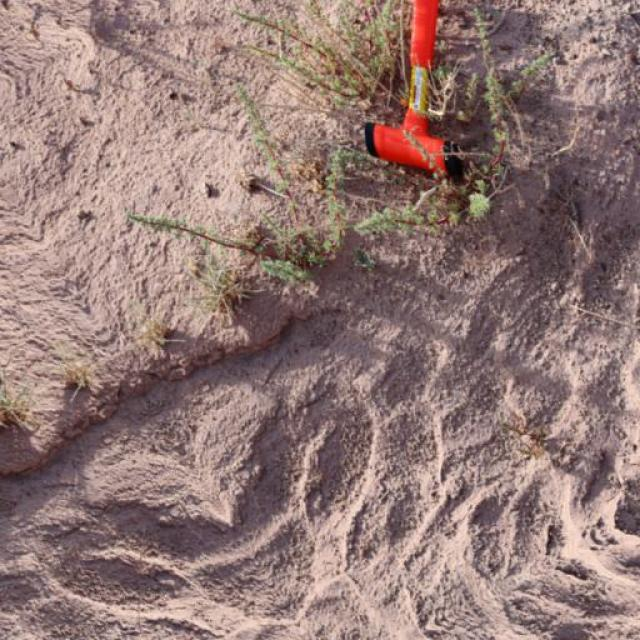mallet: (363, 0, 472, 181)
